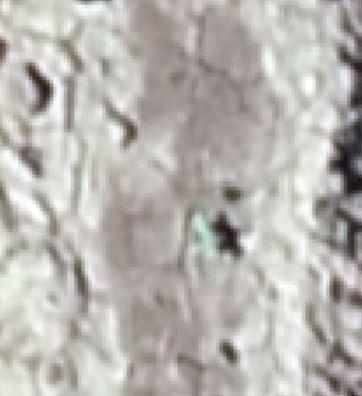cotton: (205, 229, 219, 247), (198, 214, 212, 230)
